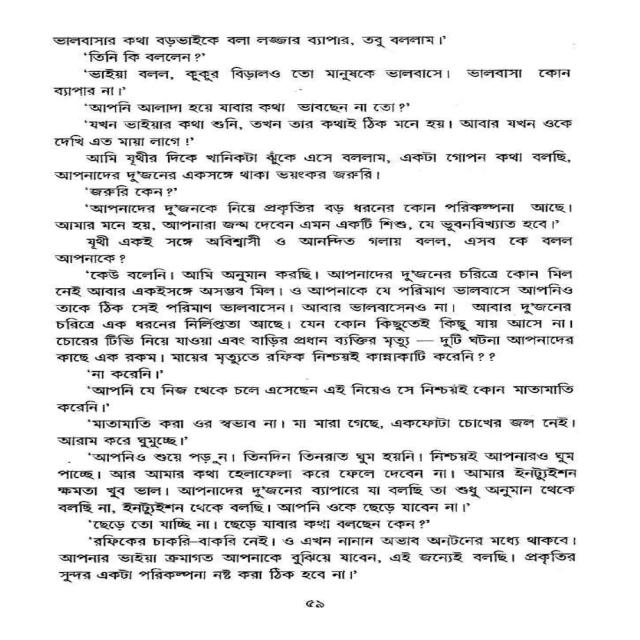page number: (293, 597, 330, 613)
paragraph: (49, 267, 579, 366), (52, 448, 581, 513), (44, 533, 584, 584), (54, 379, 574, 415), (50, 199, 578, 233), (53, 416, 579, 449), (53, 232, 577, 265), (48, 117, 579, 149), (47, 67, 575, 98), (53, 151, 577, 180), (80, 515, 438, 533), (41, 32, 452, 46), (71, 100, 412, 112), (66, 51, 216, 64), (78, 184, 179, 199), (75, 367, 171, 379)
